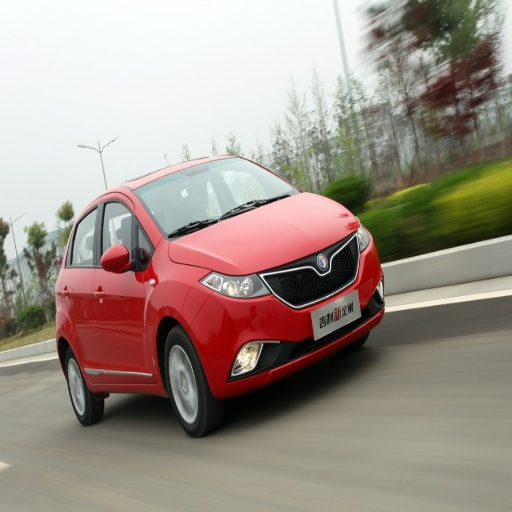front_bumper: (194, 230, 381, 398)
front_right_door: (94, 193, 148, 370)
front_right_light: (200, 270, 261, 299)
